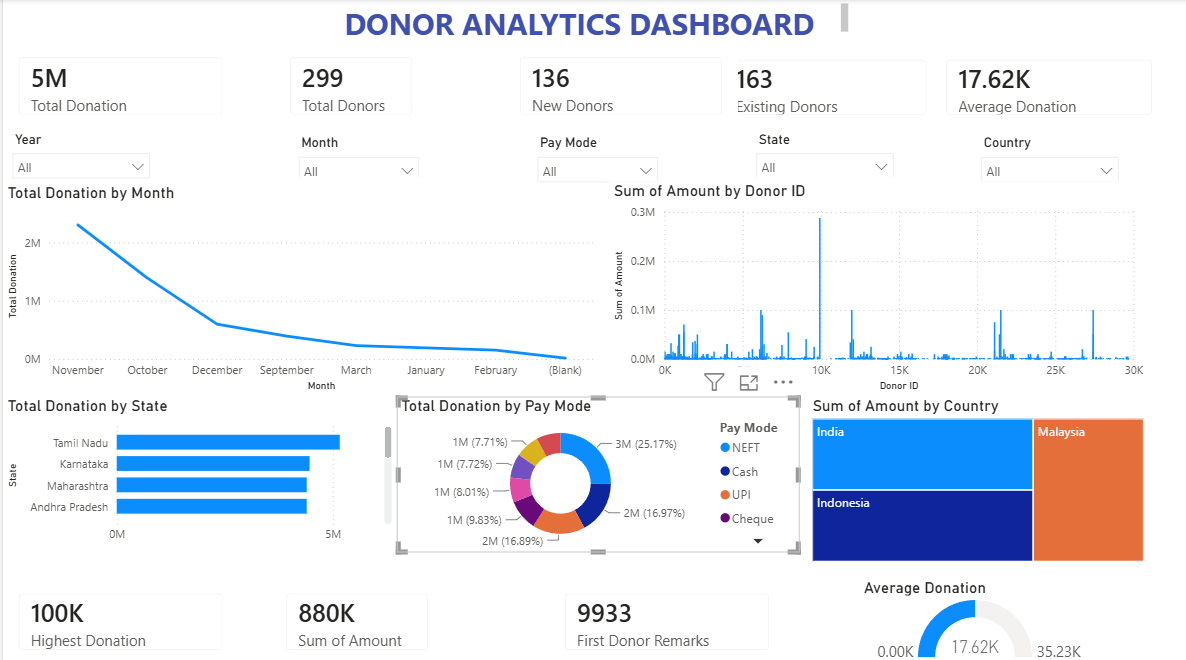

The page's visual inventory and layout, read from the dashboard file:
{"tool":"powerbi","page":{"name":"Donor Analytics Dashboard","canvas":[1280,720],"ordinal":0},"visuals":[{"type":"cardVisual","fields":{"Data":["EXISTING-DONORS.Total Donation"]},"box":[0,46,254,96],"z":19},{"type":"cardVisual","fields":{"Data":["EXISTING-DONORS.Average Donation"]},"box":[1000,48,256,94],"z":20},{"type":"cardVisual","fields":{"Data":["EXISTING-DONORS.Existing Donors"]},"box":[760,48,252,94],"z":21},{"type":"cardVisual","fields":{"Data":["NEW-DONORS.New Donors"]},"box":[540,46,252,96],"z":22},{"type":"cardVisual","fields":{"Data":["EXISTING-DONORS.Total Donors"]},"box":[292,46,166,96],"z":23},{"type":"textbox","box":[362,0,554,46],"z":24},{"type":"slicer","fields":{"Values":["Calendar.Year"]},"box":[0,138,168,76],"z":25},{"type":"slicer","fields":{"Values":["Calendar.Month"]},"box":[308,142,150,50],"z":27},{"type":"slicer","fields":{"Values":["NEW-DONORS.Pay Mode"]},"box":[566,142,150,74],"z":29},{"type":"slicer","fields":{"Values":["NEW-DONORS.State"]},"box":[802,138,168,54],"z":30},{"type":"slicer","fields":{"Values":["NEW-DONORS.Country"]},"box":[1044,142,168,56],"z":31},{"type":"lineChart","fields":{"Category":["Calendar.Month"],"Y":["EXISTING-DONORS.Total Donation"]},"box":[0,198.6,641.4,230],"z":32},{"type":"clusteredBarChart","fields":{"Y":["EXISTING-DONORS.Total Donation"],"Category":["NEW-DONORS.State"]},"box":[0,428.6,424.3,167.1],"z":33},{"type":"donutChart","fields":{"Category":["EXISTING-DONORS.Pay Mode"],"Y":["EXISTING-DONORS.Total Donation"]},"box":[424.3,428.6,434.3,168.6],"z":34},{"type":"treemap","fields":{"Values":["Sum(EXISTING-DONORS.Amount)"],"Details":["NEW-DONORS.Country"]},"box":[868,429,367,183],"z":36},{"type":"cardVisual","fields":{"Data":["EXISTING-DONORS.Highest Donation"]},"box":[0,624.3,254.3,95.7],"z":37},{"type":"cardVisual","fields":{"Data":["Sum(NEW-DONORS.Amount)"]},"box":[288.6,624.3,187.1,95.7],"z":38},{"type":"cardVisual","fields":{"Data":["Min(NEW-DONORS.Donor Remarks)"]},"box":[588.6,624.3,254.3,95.7],"z":39},{"type":"gauge","fields":{"Y":["EXISTING-DONORS.Average Donation"]},"box":[922.9,624.3,258.6,95.7],"z":40},{"type":"clusteredColumnChart","fields":{"Category":["EXISTING-DONORS.Donor ID"],"Y":["Sum(EXISTING-DONORS.Amount)"]},"box":[654.3,197.1,581.4,231.4],"z":41}]}

Visuals, with their boxes in screenshot pixels (x1, y1, x2, y2), scaled from the page's 1280x720 canvas onto the 1186x660 screenshot:
cardVisual - EXISTING-DONORS.Total Donation: (left=0, top=42, right=235, bottom=130)
cardVisual - EXISTING-DONORS.Average Donation: (left=927, top=44, right=1164, bottom=130)
cardVisual - EXISTING-DONORS.Existing Donors: (left=704, top=44, right=938, bottom=130)
cardVisual - NEW-DONORS.New Donors: (left=500, top=42, right=734, bottom=130)
cardVisual - EXISTING-DONORS.Total Donors: (left=271, top=42, right=424, bottom=130)
textbox: (left=335, top=0, right=849, bottom=42)
slicer - Calendar.Year: (left=0, top=126, right=156, bottom=196)
slicer - Calendar.Month: (left=285, top=130, right=424, bottom=176)
slicer - NEW-DONORS.Pay Mode: (left=524, top=130, right=663, bottom=198)
slicer - NEW-DONORS.State: (left=743, top=126, right=899, bottom=176)
slicer - NEW-DONORS.Country: (left=967, top=130, right=1123, bottom=182)
lineChart - Calendar.Month x EXISTING-DONORS.Total Donation: (left=0, top=182, right=594, bottom=393)
clusteredBarChart - EXISTING-DONORS.Total Donation x NEW-DONORS.State: (left=0, top=393, right=393, bottom=546)
donutChart - EXISTING-DONORS.Pay Mode x EXISTING-DONORS.Total Donation: (left=393, top=393, right=796, bottom=547)
treemap - Sum(EXISTING-DONORS.Amount) x NEW-DONORS.Country: (left=804, top=393, right=1144, bottom=561)
cardVisual - EXISTING-DONORS.Highest Donation: (left=0, top=572, right=236, bottom=659)
cardVisual - Sum(NEW-DONORS.Amount): (left=267, top=572, right=441, bottom=659)
cardVisual - Min(NEW-DONORS.Donor Remarks): (left=545, top=572, right=781, bottom=659)
gauge - EXISTING-DONORS.Average Donation: (left=855, top=572, right=1095, bottom=659)
clusteredColumnChart - EXISTING-DONORS.Donor ID x Sum(EXISTING-DONORS.Amount): (left=606, top=181, right=1145, bottom=393)
